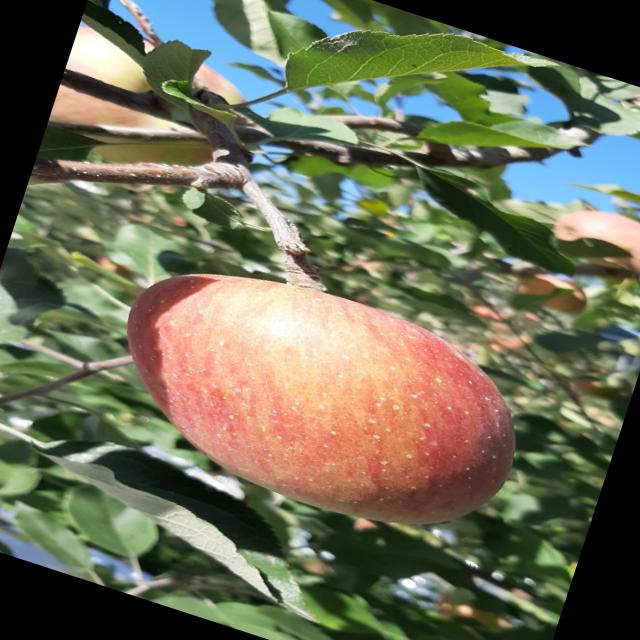fresh: (75, 227, 566, 572)
